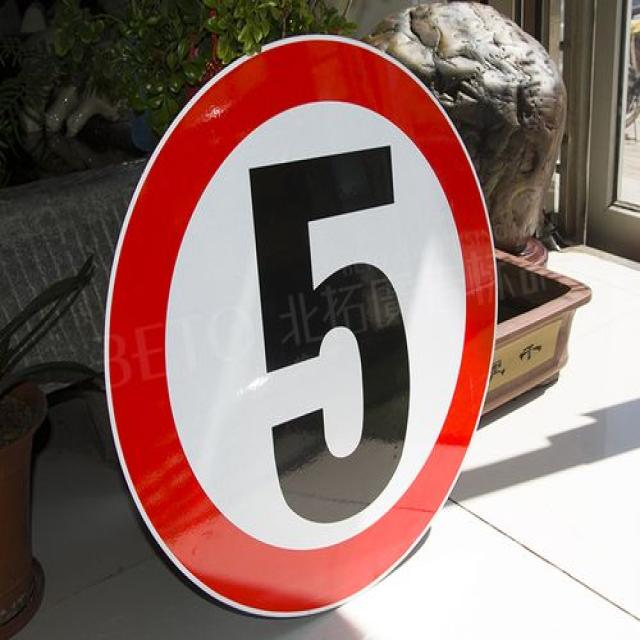speed limit 10: (105, 33, 498, 619)
